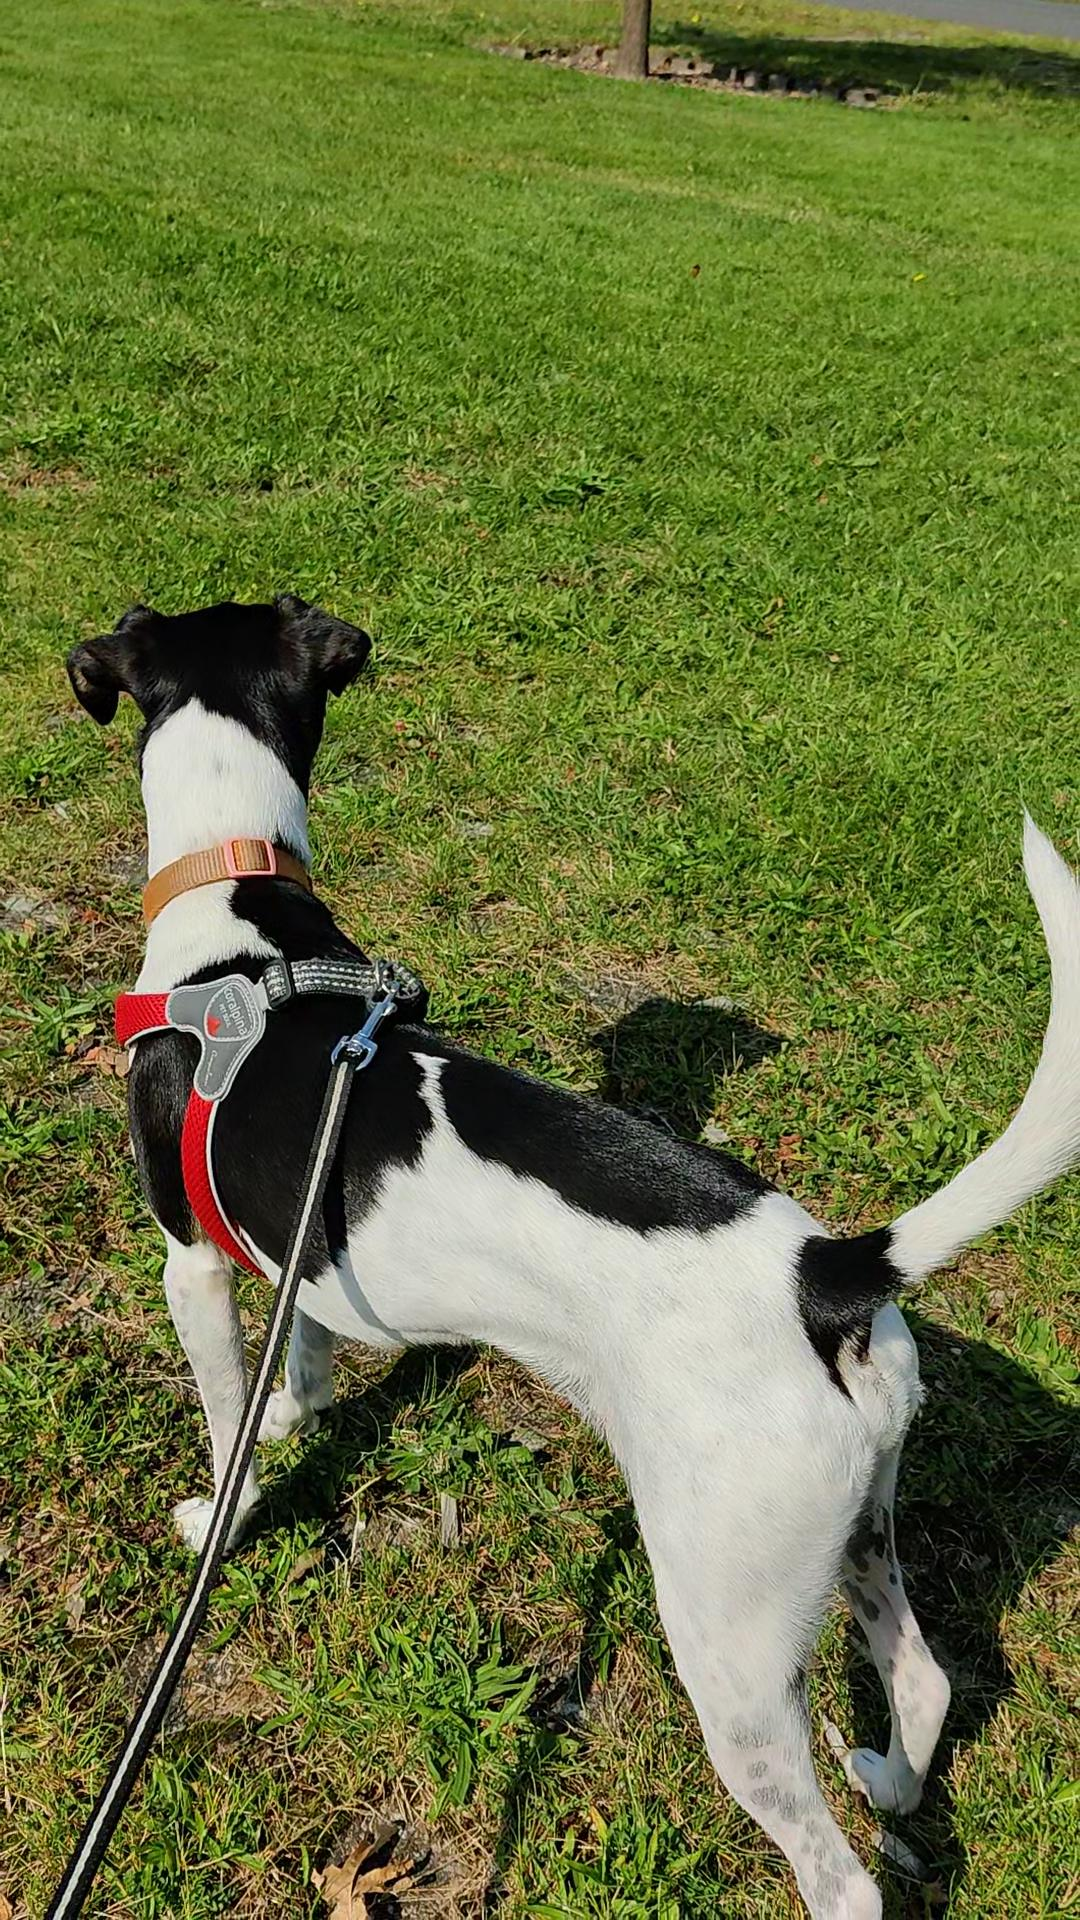Dog: (61, 589, 1079, 1919)
